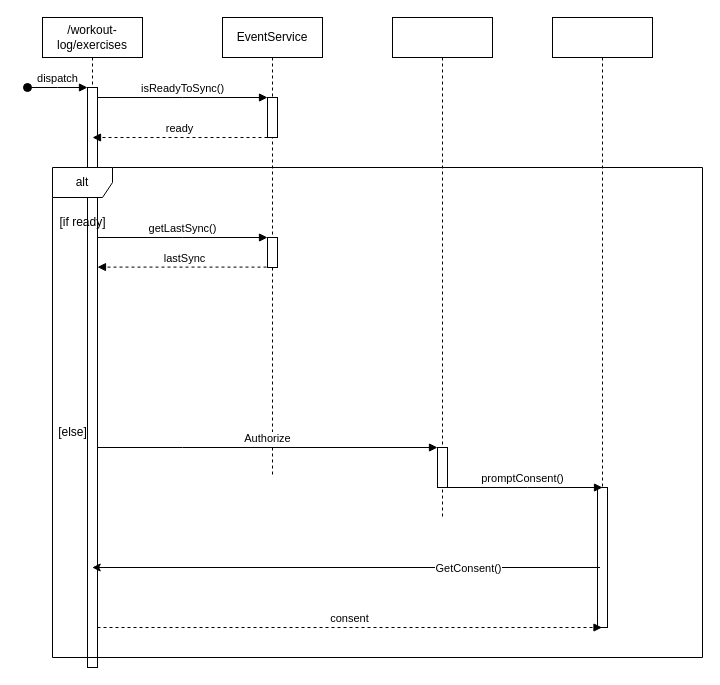
Some shapes in this 720 by 685 pixel diagram are drawn without their labels. Each missing label, with the box of its shape:
/workout-log/spreadsheet/authorize: (392, 16, 492, 518)
SheetService: (552, 16, 652, 518)
